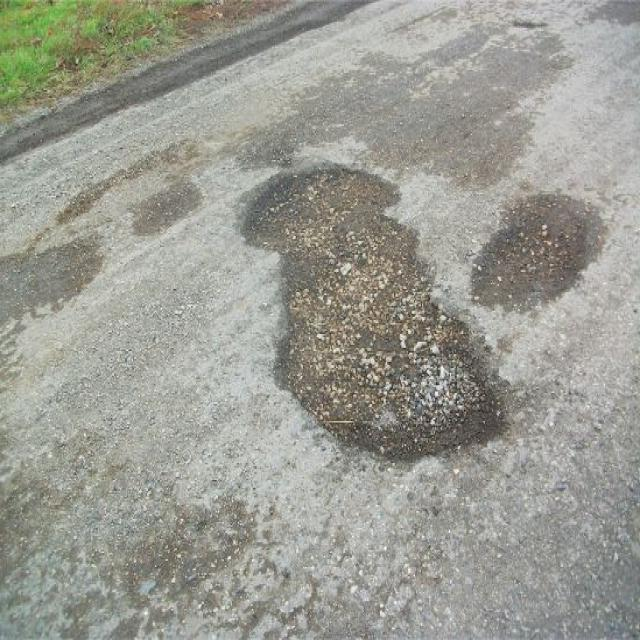Pothole: (236, 159, 522, 473), (470, 190, 615, 310)
